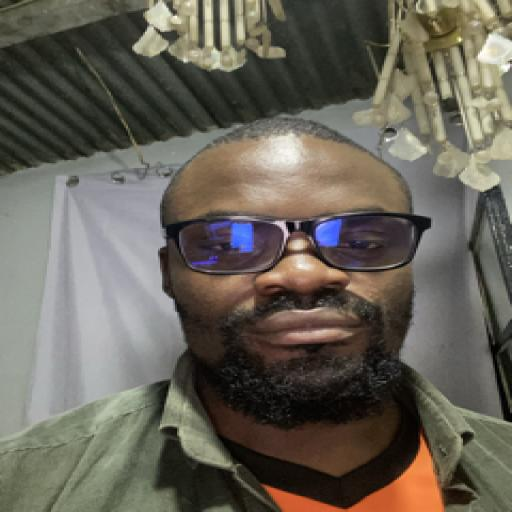JEANLUC: (154, 115, 441, 428)
